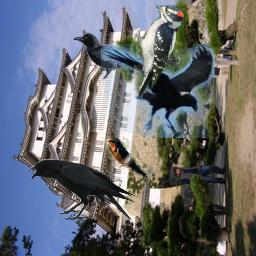Crow: (101, 44, 215, 138), (27, 159, 138, 220), (73, 33, 149, 80)
Swallow: (105, 136, 151, 181)
Woodpecker: (134, 2, 185, 101)
